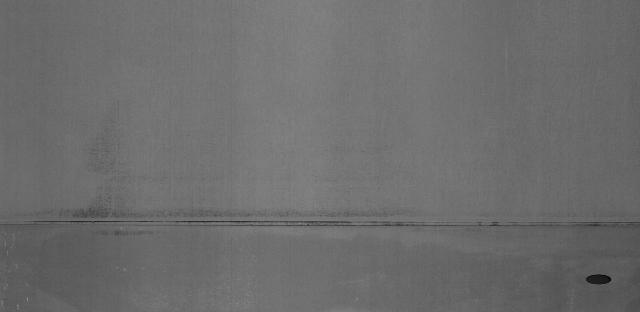punching_hole: (582, 267, 617, 290)
welding_line: (3, 206, 637, 235)
